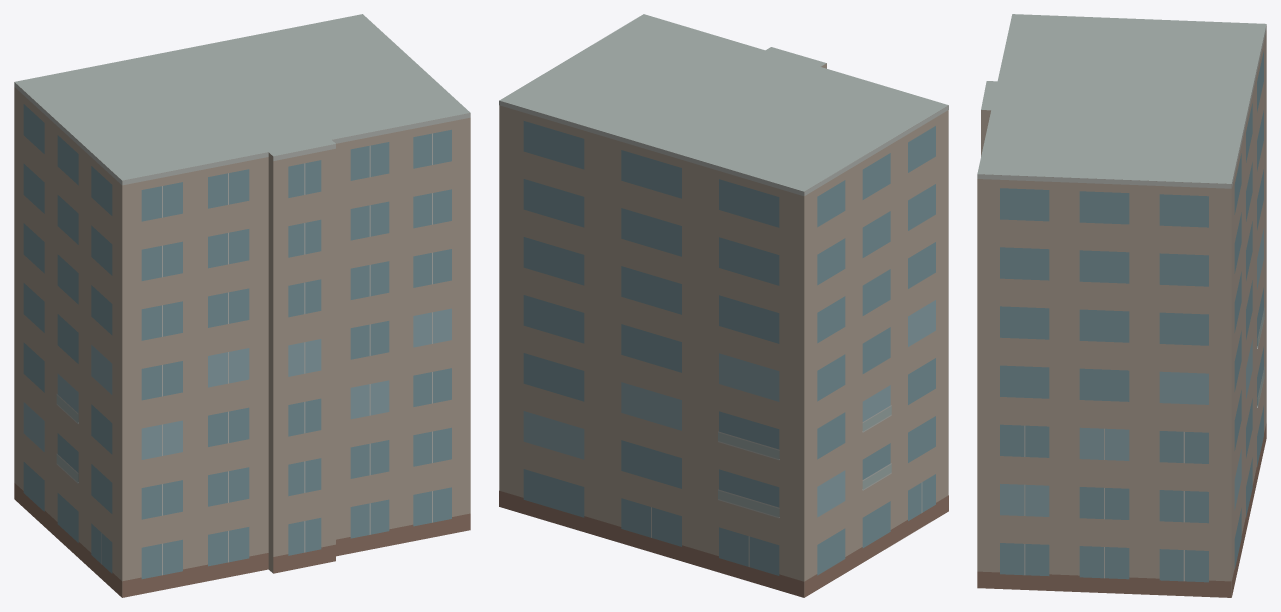
Rendered from survey-upis-32762043.glb.
3 renders of one model, left to right at view 1: azimuth 30°, elevation 25°; view 2: azimuth 150°, elevation 25°; view 3: azimuth 270°, elevation 25°, orthographic. The views are drawn at different scales.
Visible parts, largest first — view 1: survey-upis-32762043.tmp; view 2: survey-upis-32762043.tmp; view 3: survey-upis-32762043.tmp.
Part boxes in pixels (x1,y1,x2,y2): survey-upis-32762043.tmp: (14, 14, 470, 597); survey-upis-32762043.tmp: (499, 14, 948, 597); survey-upis-32762043.tmp: (977, 14, 1266, 597).
Size of the model in its own units: 18.68 by 21.2 by 13.44.
